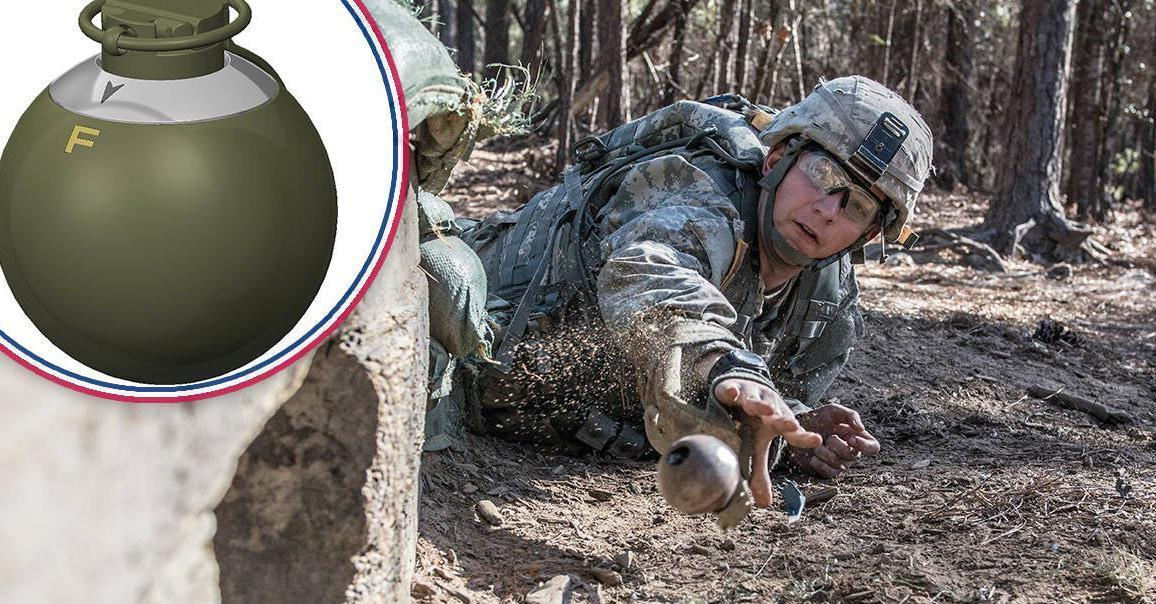Grenade: (0, 0, 338, 386), (0, 0, 338, 383), (655, 433, 756, 533)
